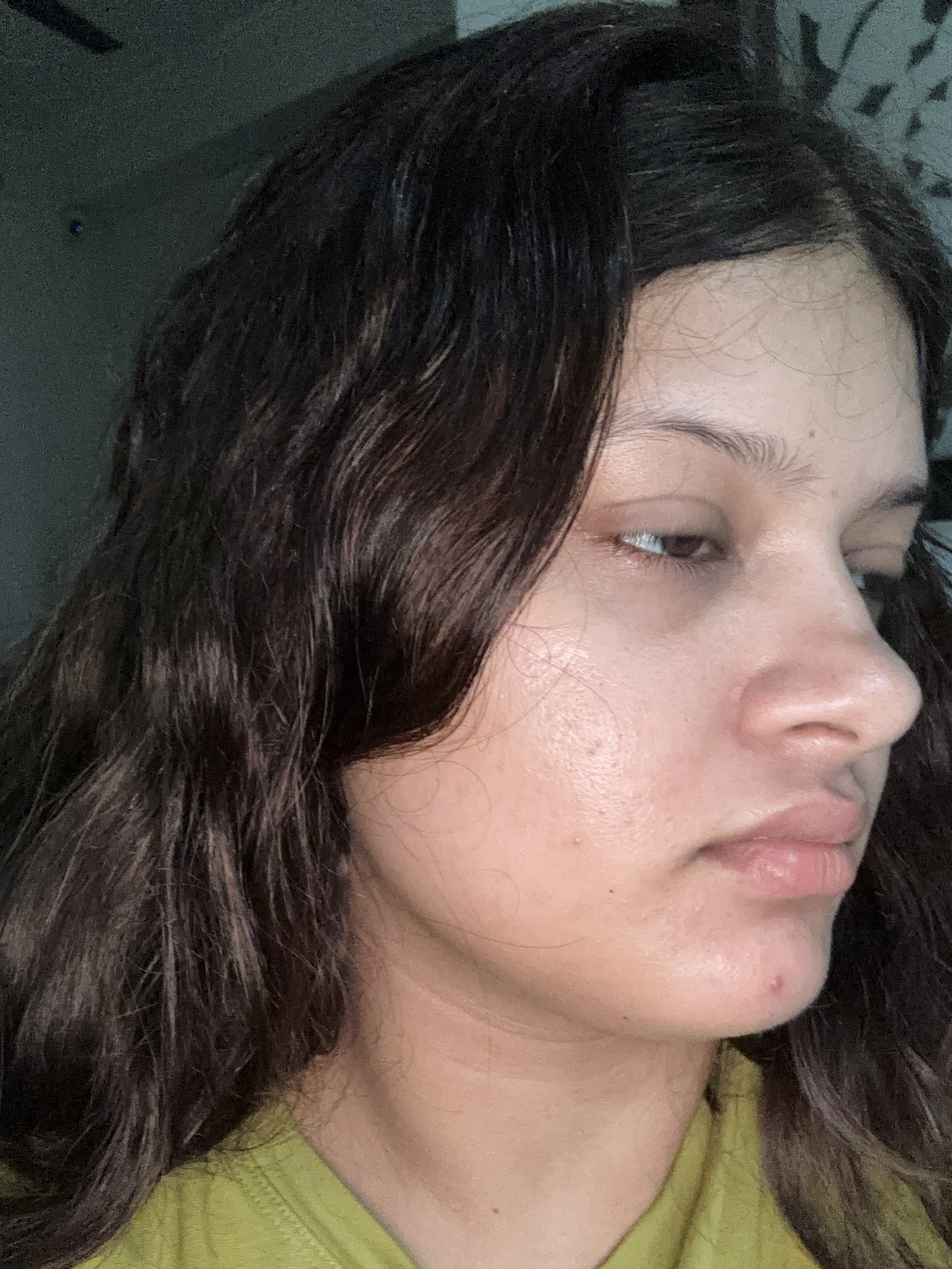papule: (758, 975, 817, 1016), (559, 828, 595, 858), (620, 813, 643, 829), (691, 901, 709, 918)
